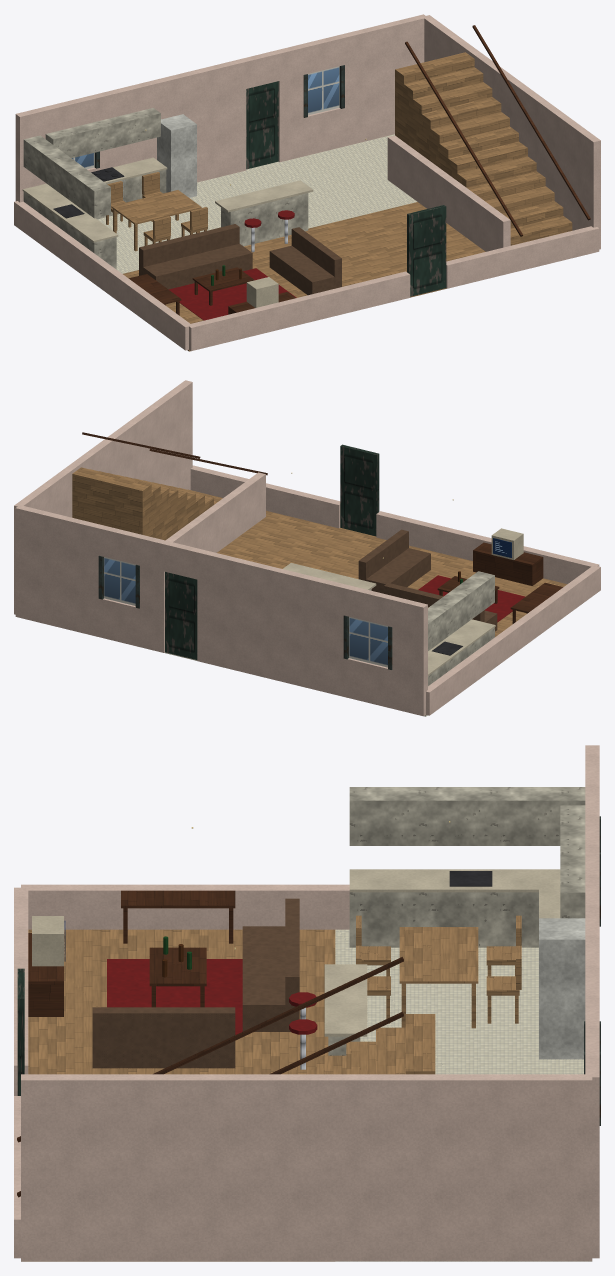
File: KevinHouse.fbx
3 views of the same model, one above another, from view 1: azimuth 30°, elevation 25°; view 2: azimuth 150°, elevation 25°; view 3: azimuth 270°, elevation 25° (orthographic). The views are drawn at different scales.
Parts seen in each view (by area): view 1: House_WallN, House_Stairs, Kit_Cabinets, House_FloorKitchen, House_WallS, House_WallE, House_Floor, House_StairWall, House_WallW, Liv_Couch, Kit_BarCounter, House_Door (+11 smaller); view 2: House_WallN, House_WallE, House_Floor, House_Stairs, House_WallS, House_WallW, Kit_Cabinets, House_StairWall, House_Door, Liv_SideCouch, Liv_TV, House_BackDoor (+6 smaller); view 3: House_WallE, Kit_Cabinets, House_Floor, House_FloorKitchen, House_WallW, Liv_SideCouch, House_Stairs, House_WallN, Kit_Fridge, Liv_Couch, NoCol_LivRug, Kit_DiningTable (+10 smaller).
Boxes of the visible parts, bbox=[...] form: House_WallN: bbox=[15, 14, 426, 202]; House_Stairs: bbox=[395, 25, 590, 245]; Kit_Cabinets: bbox=[22, 108, 167, 269]; House_FloorKitchen: bbox=[97, 134, 417, 273]; House_WallS: bbox=[188, 226, 599, 351]; House_WallE: bbox=[423, 15, 600, 249]; House_Floor: bbox=[123, 202, 485, 351]; House_StairWall: bbox=[387, 135, 510, 251]; House_WallW: bbox=[14, 201, 192, 350]; Liv_Couch: bbox=[139, 224, 252, 289]; Kit_BarCounter: bbox=[215, 180, 313, 246]; House_Door: bbox=[407, 205, 446, 296]; House_WallN: bbox=[15, 505, 427, 716]; House_WallE: bbox=[14, 380, 192, 614]; House_Floor: bbox=[217, 510, 567, 636]; House_Stairs: bbox=[72, 432, 267, 540]; House_WallS: bbox=[190, 465, 599, 583]; House_WallW: bbox=[426, 565, 600, 715]; Kit_Cabinets: bbox=[428, 571, 495, 685]; House_StairWall: bbox=[165, 472, 265, 552]; House_Door: bbox=[340, 444, 379, 536]; Liv_SideCouch: bbox=[358, 529, 430, 593]; Liv_TV: bbox=[473, 528, 543, 585]; House_BackDoor: bbox=[165, 572, 197, 659]; House_WallE: bbox=[21, 1074, 592, 1261]; Kit_Cabinets: bbox=[349, 787, 585, 947]; House_Floor: bbox=[21, 929, 335, 1261]; House_FloorKitchen: bbox=[335, 929, 591, 1261]; House_WallW: bbox=[21, 884, 349, 929]; Liv_SideCouch: bbox=[92, 1007, 235, 1068]; House_Stairs: bbox=[17, 957, 435, 1197]; House_WallN: bbox=[584, 745, 600, 1258]; Kit_Fridge: bbox=[539, 918, 585, 1059]; Liv_Couch: bbox=[242, 898, 299, 1031]; NoCol_LivRug: bbox=[107, 959, 242, 1034]; Kit_DiningTable: bbox=[399, 927, 478, 1028].
Bounding box in the file's own units: 11.2 × 3.74 × 8.22.
